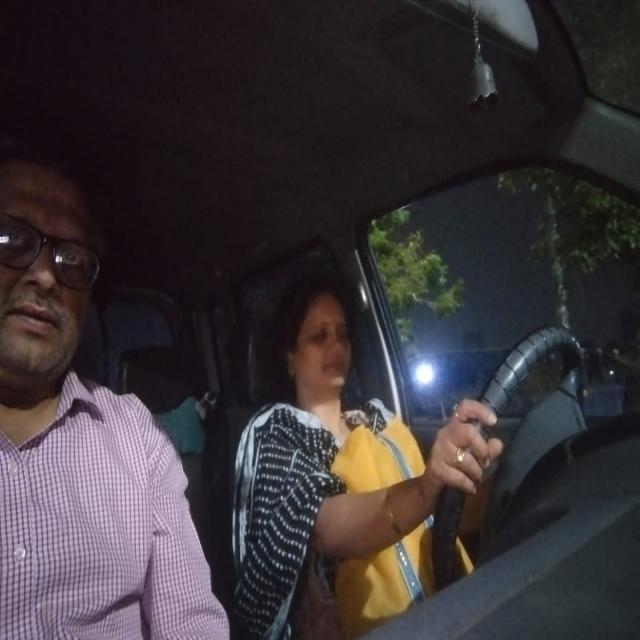drowsy: (282, 280, 356, 408)
person: (0, 144, 110, 399)
